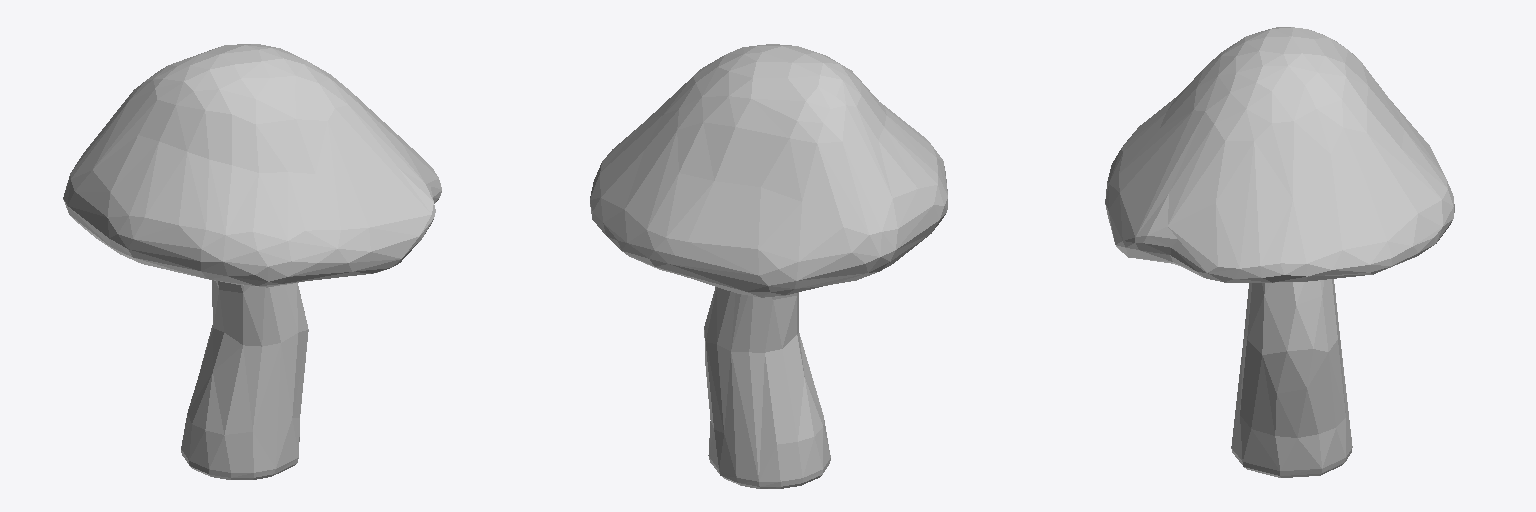
File: mushroom.obj
3 renders of one model, left to right at view 1: azimuth 30°, elevation 25°; view 2: azimuth 150°, elevation 25°; view 3: azimuth 270°, elevation 25°, orthographic.
Visible parts, largest first — view 1: Circle_Material.001_0; view 2: Circle_Material.001_0; view 3: Circle_Material.001_0.
Boxes of the visible parts, x1=… form: Circle_Material.001_0: x1=63, y1=44, x2=441, y2=479; Circle_Material.001_0: x1=590, y1=44, x2=947, y2=488; Circle_Material.001_0: x1=1105, y1=27, x2=1454, y2=477.
Size of the model in its own units: 1.43 by 1.76 by 1.36.